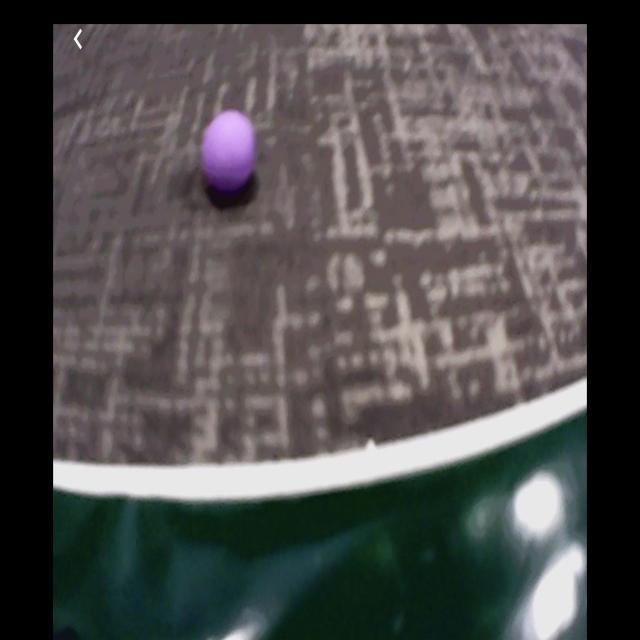ball: (203, 111, 257, 189)
